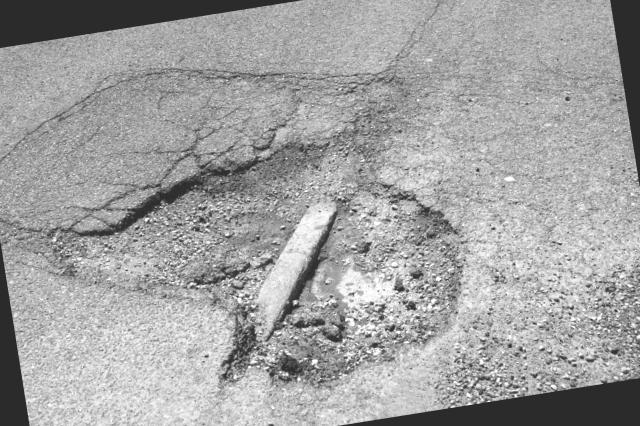Pothole: (12, 104, 499, 426)
